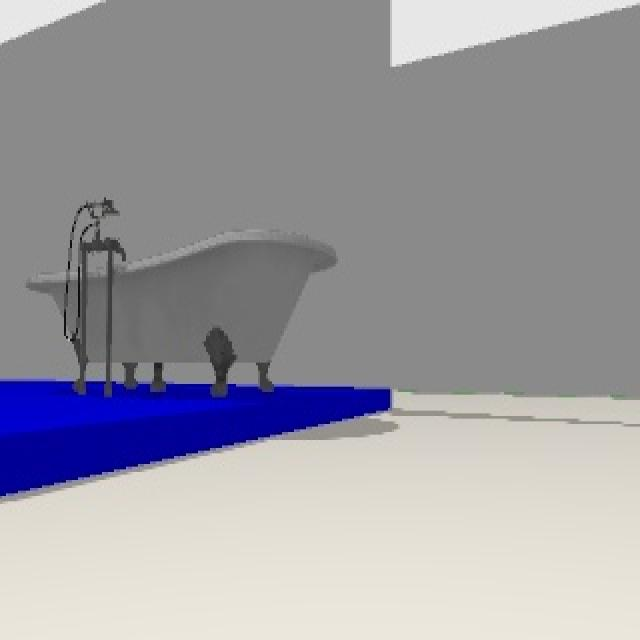bathtub: (28, 192, 343, 396)
